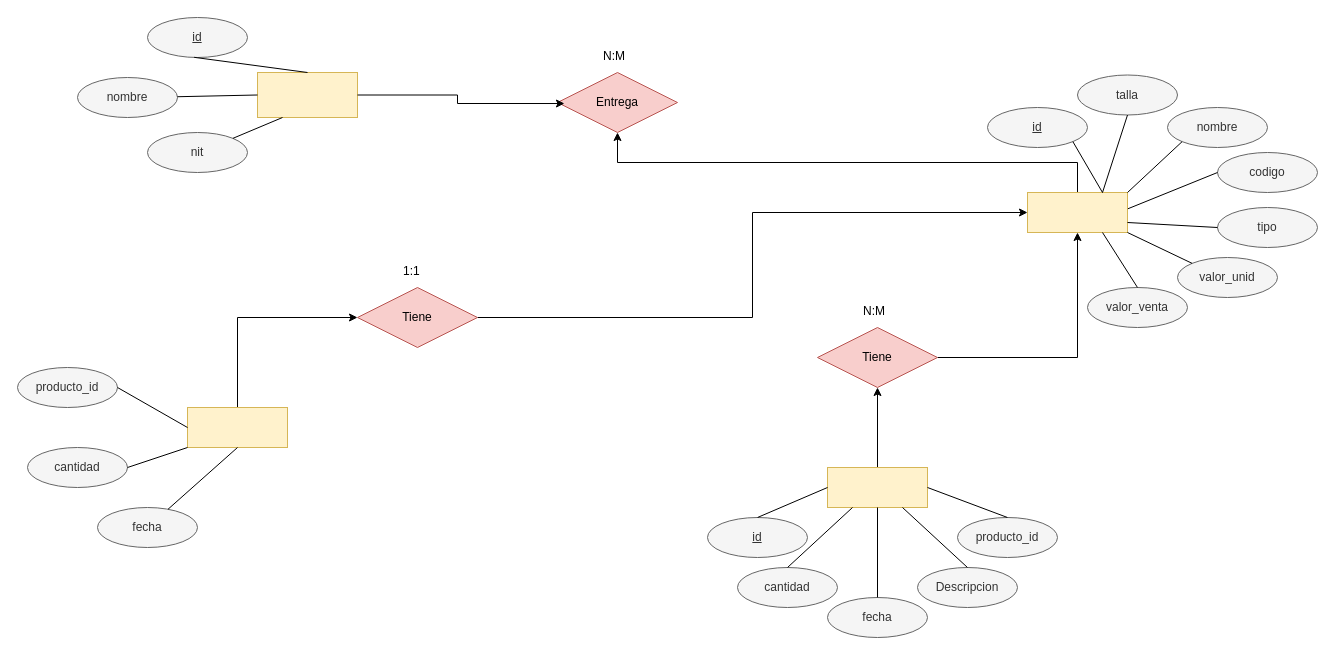
This 1335x655 diagram has some shape labels left out. The centre of each missing label's shape, as x and y in pixels:
"Inventario" goes at point 237,427.
"Merma" goes at point 877,487.
"Productos" goes at point 1077,212.
"Proveedor" goes at point 307,95.
